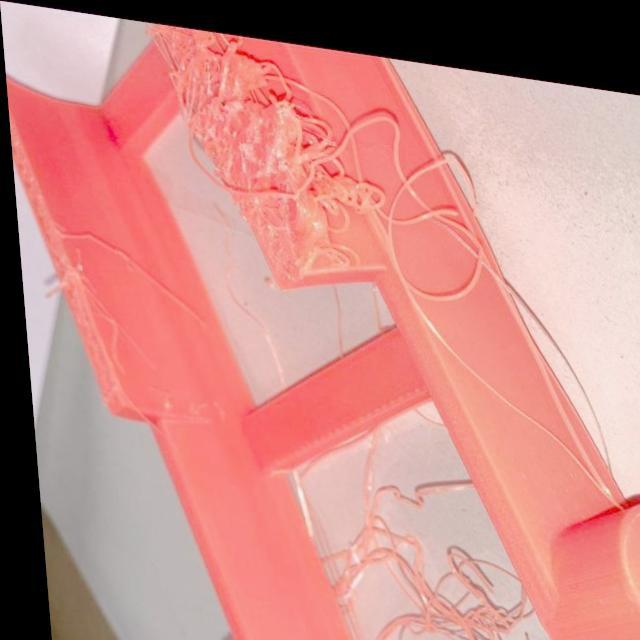spaghetti: (244, 78, 394, 228), (374, 535, 516, 640)
